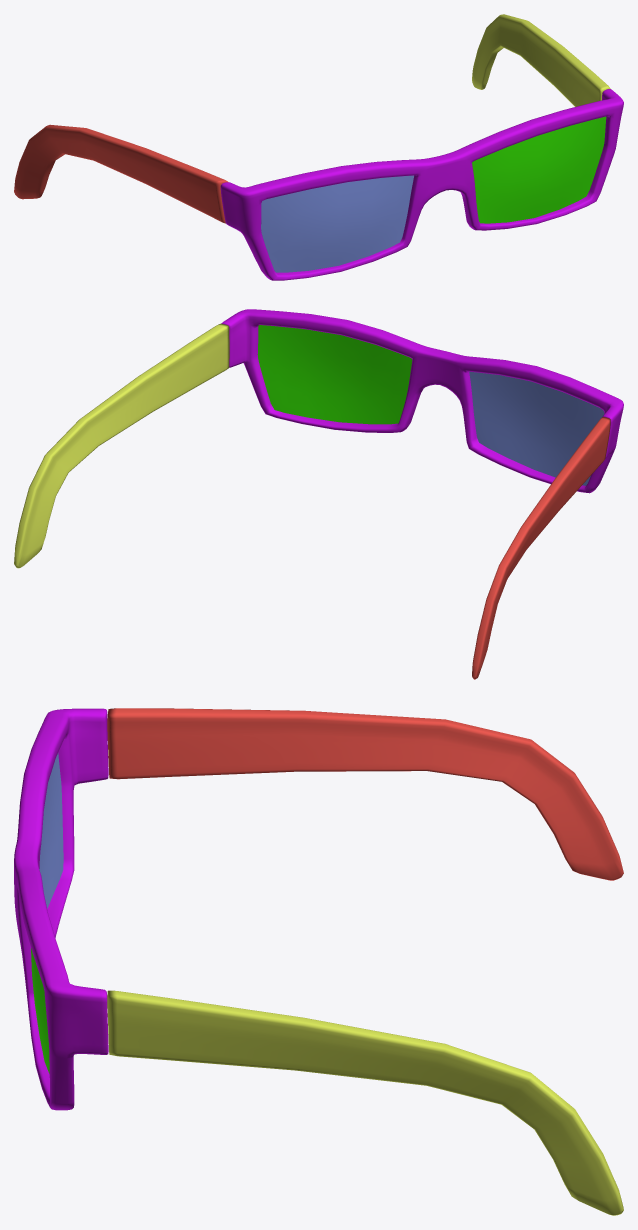
Rendered from Male_glasses.glb.
The picture shows the model from 3 angles, top to bottom: view 1: azimuth 30°, elevation 25°; view 2: azimuth 150°, elevation 25°; view 3: azimuth 270°, elevation 25°; orthographic projection. The views are drawn at different scales.
Parts seen in each view (by area): view 1: Male_Glasses; view 2: Male_Glasses; view 3: Male_Glasses.
Boxes of the visible parts, box(x1,y1,x2,y2) form: Male_Glasses: box(14, 14, 623, 280); Male_Glasses: box(14, 309, 623, 679); Male_Glasses: box(14, 708, 623, 1215).
Size of the model in its own units: 10.17 by 2.9 by 7.65.
